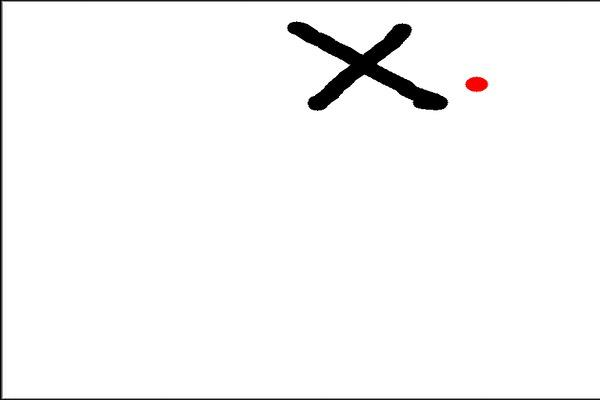X: (234, 9, 457, 133)
